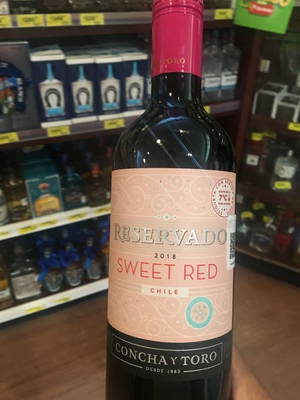reservado sweet red: (103, 6, 243, 396)
